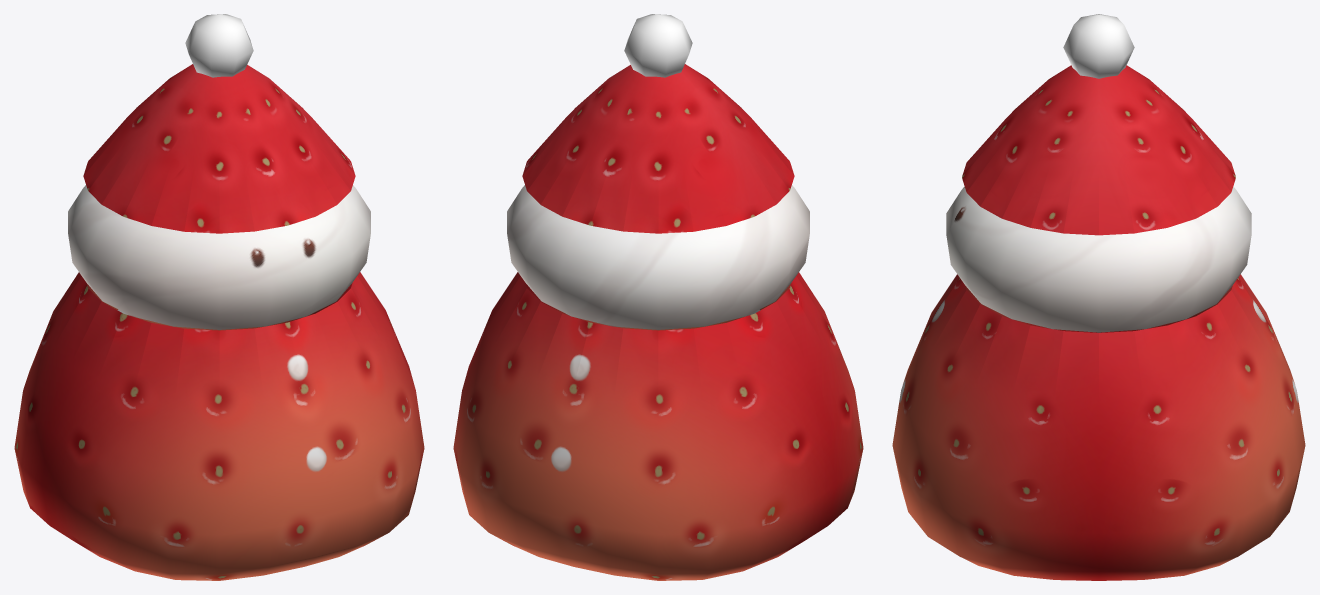
Rendered from 2_strawberry.fbx.
3 renders of one model, left to right at view 1: azimuth 30°, elevation 25°; view 2: azimuth 150°, elevation 25°; view 3: azimuth 270°, elevation 25°, orthographic.
Visible parts, largest first — view 1: Cylinder001; view 2: Cylinder001; view 3: Cylinder001.
Boxes of the visible parts, x1,y1,x2,y2 form: Cylinder001: (14, 14, 424, 580); Cylinder001: (453, 14, 863, 580); Cylinder001: (892, 14, 1305, 580).
Size of the model in its own units: 22.27 by 29.73 by 22.27.
2 materials, 1 textured.
